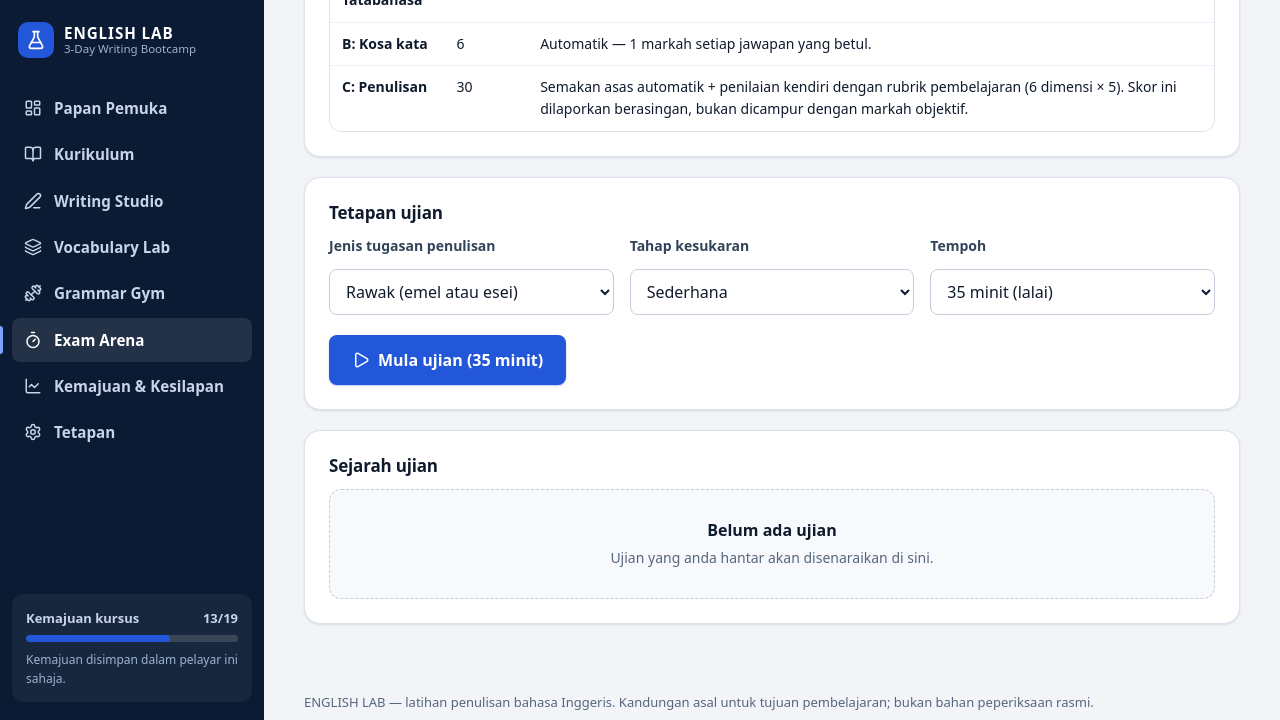
Scenario: exam arena (Flow F) › shows instructions and criteria, starts a timed exam and submits to a results page
(page scrolled)
Click the button "Mula ujian (35 minit)" at (448,360), box left=329, top=335, right=566, bottom=385
(page scrolled)
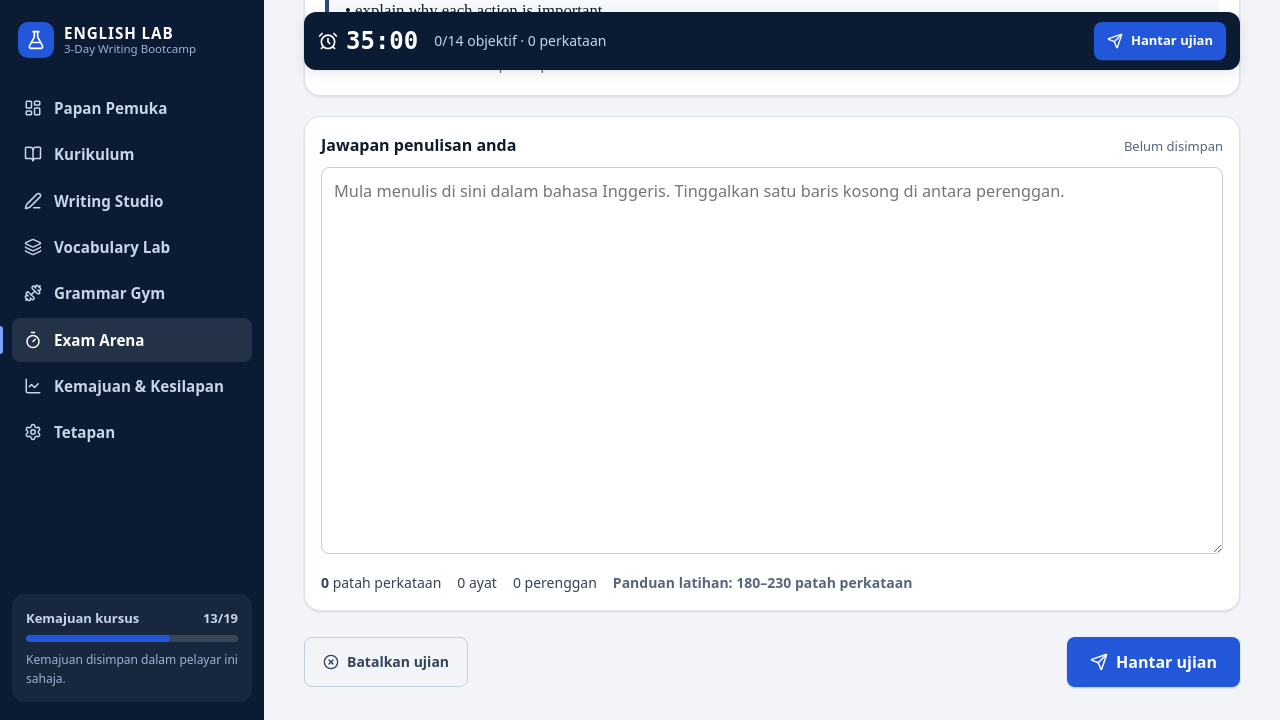
Now the element showing "35:00" is shown, box left=318, top=22, right=418, bottom=60
Type "Dear Sir," into the text box labelled "Jawapan penulisan anda" at (772,361), box left=321, top=167, right=1223, bottom=554
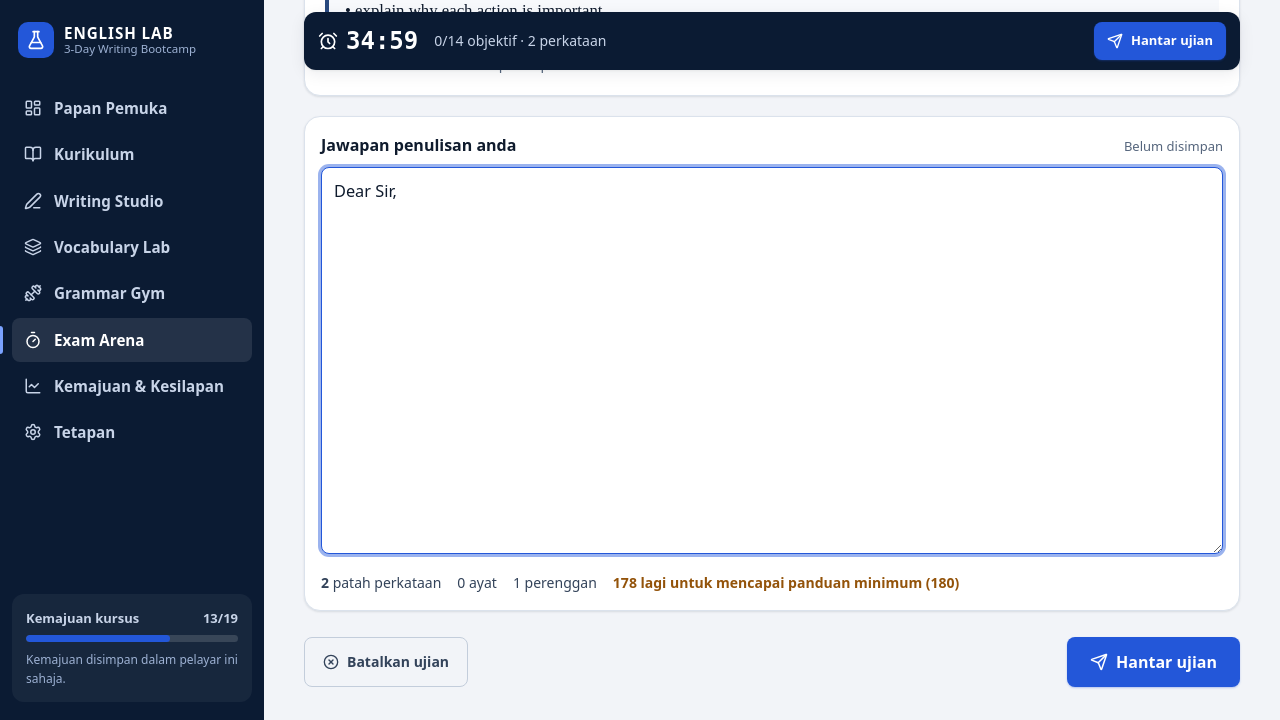
Click the button "Hantar ujian" in the row of "objektif ·" at (1160,41), box left=1094, top=22, right=1226, bottom=60
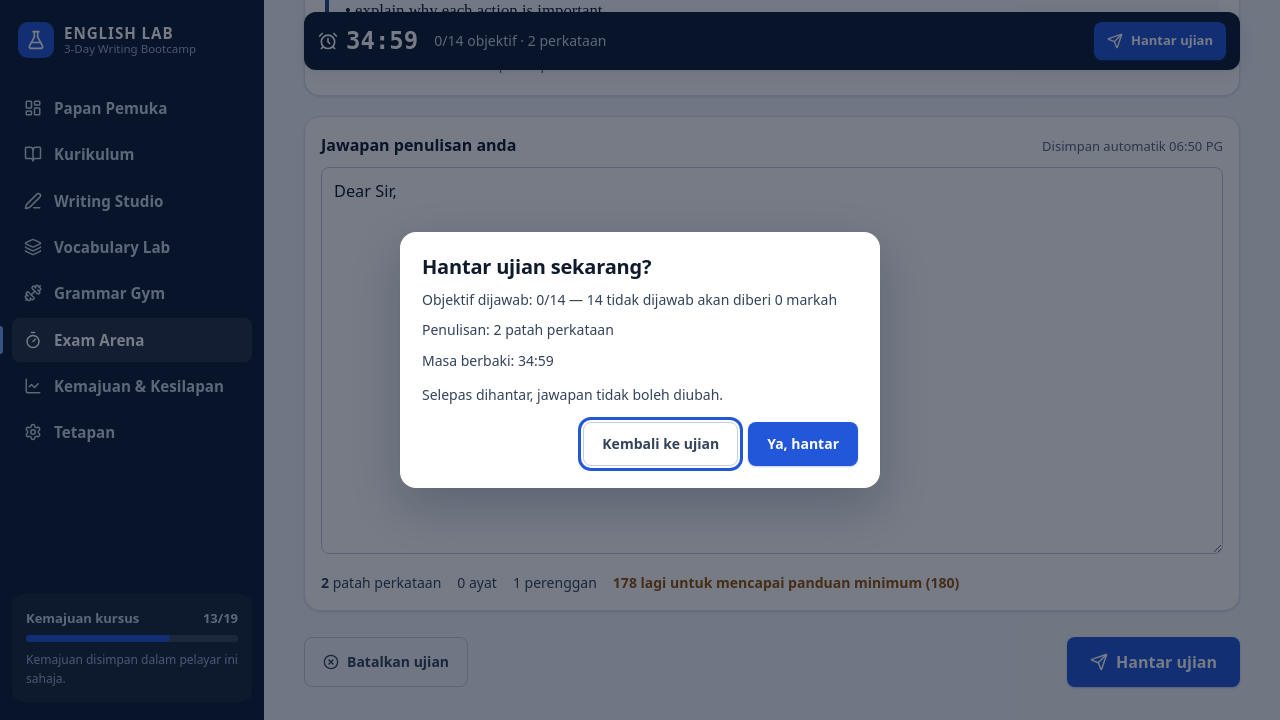
Click the button "Ya, hantar" at (803,444), box left=748, top=422, right=858, bottom=466
(page scrolled)
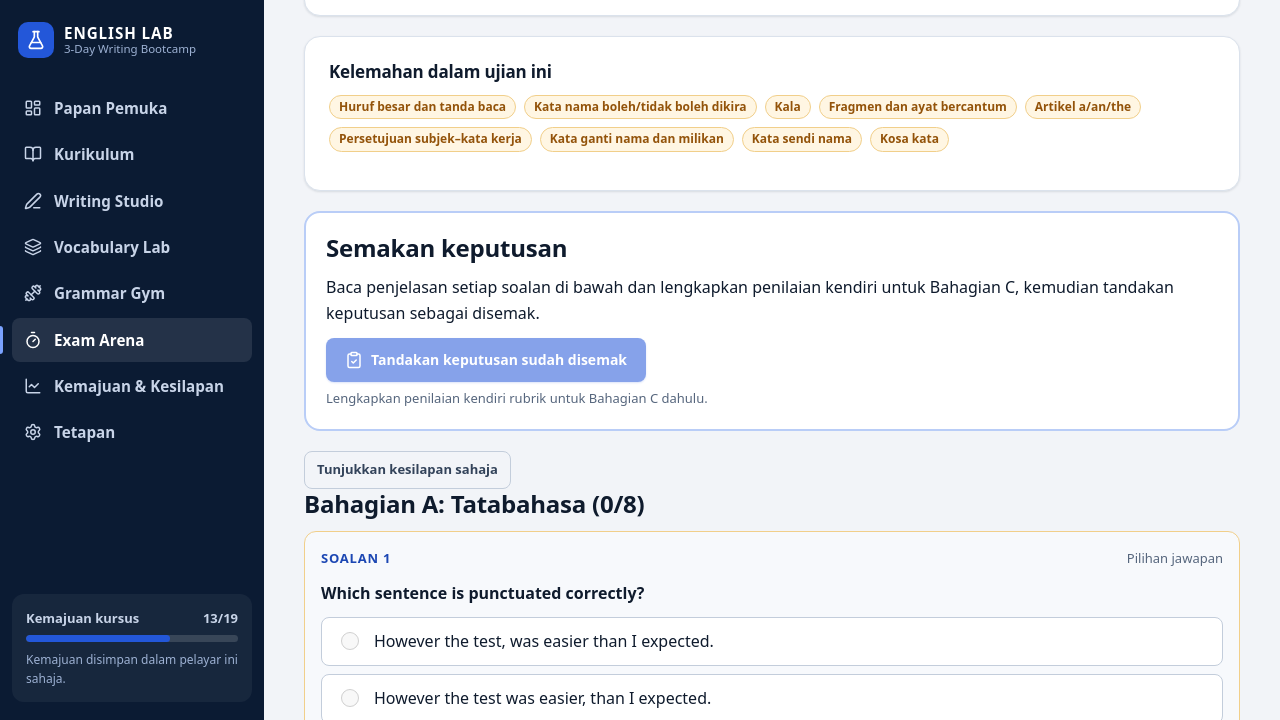
Now the button "Tandakan keputusan sudah disemak" is disabled, box left=326, top=338, right=646, bottom=382
